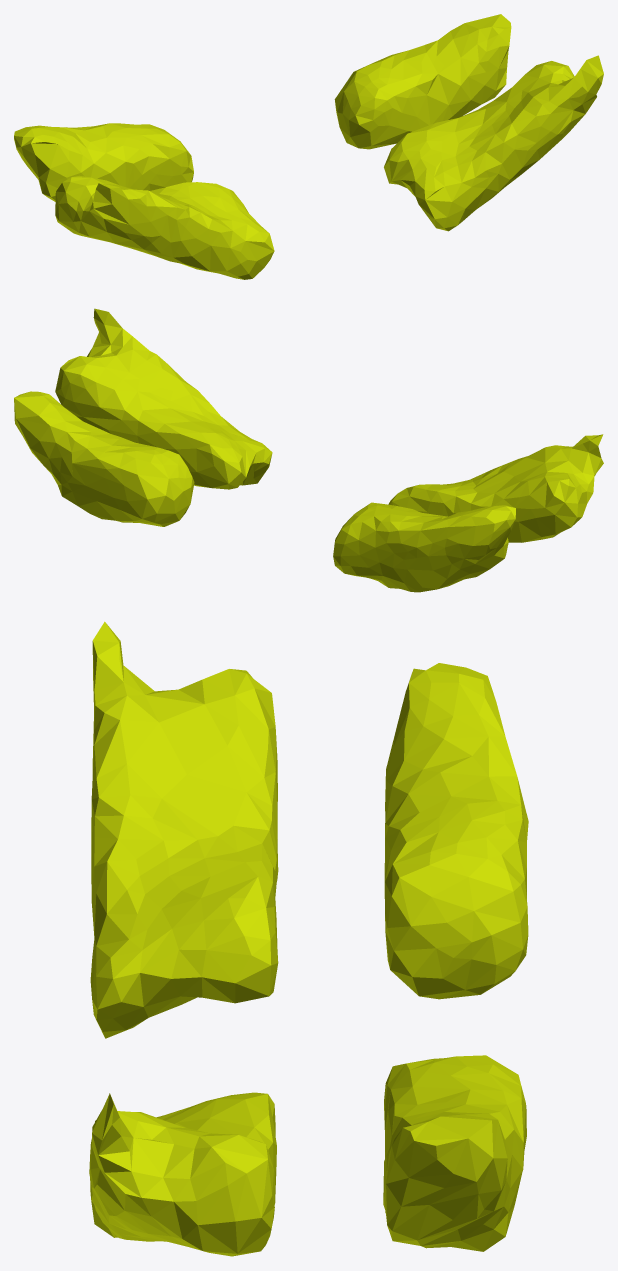
File: 192-11-area 11 of cortex-('0.9216', '1.0000', '0.0000').obj
3 renders of one model, top to bottom at view 1: azimuth 30°, elevation 25°; view 2: azimuth 150°, elevation 25°; view 3: azimuth 270°, elevation 25°, orthographic. The views are drawn at different scales.
Size of the model in its own units: 155 by 39.62 by 56.96.
